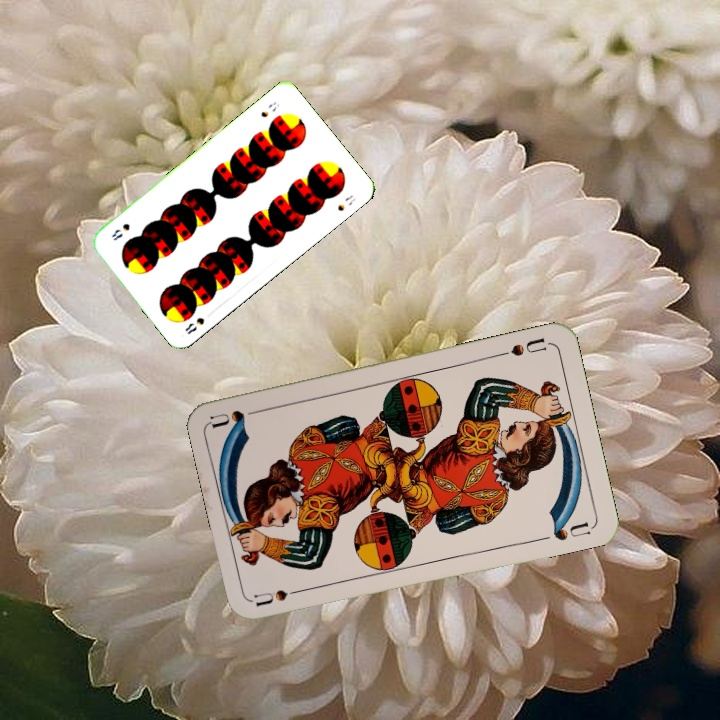S8: (181, 313, 207, 337), (257, 97, 282, 120)
SU: (493, 334, 552, 360), (251, 584, 310, 609)
